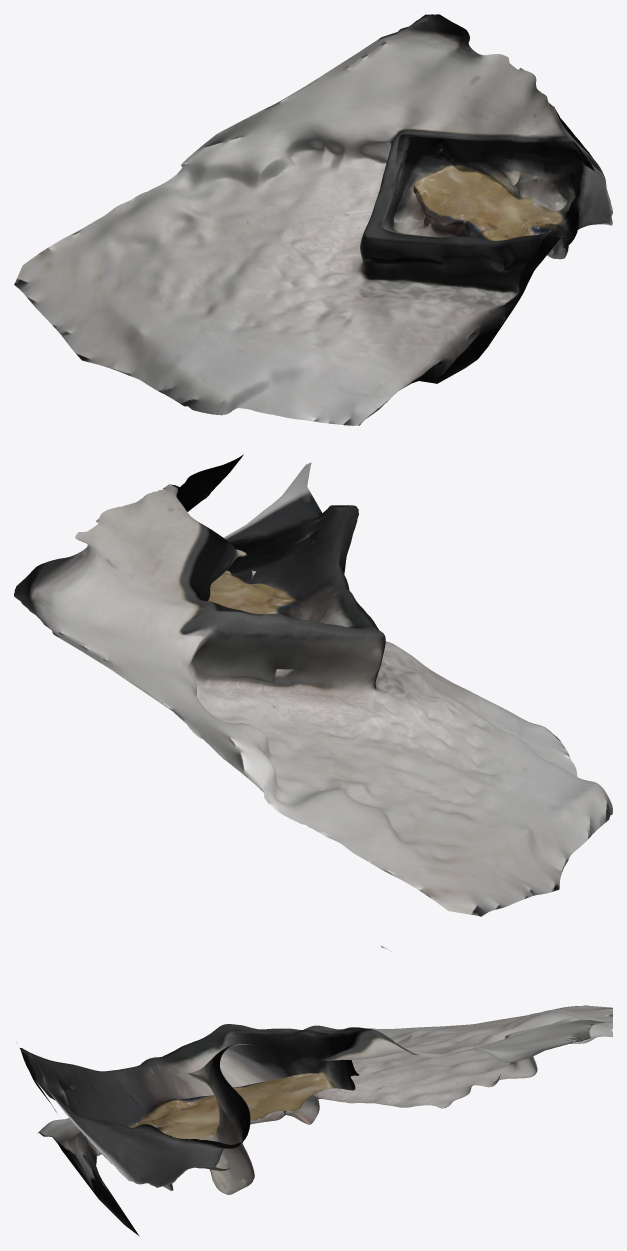
The picture shows the model from 3 angles, top to bottom: view 1: azimuth 30°, elevation 25°; view 2: azimuth 150°, elevation 25°; view 3: azimuth 270°, elevation 25°; orthographic projection. The views are drawn at different scales.
Bounding box in the file's own units: 0.9913 × 0.4273 × 0.8462.
1 material, 1 textured.
